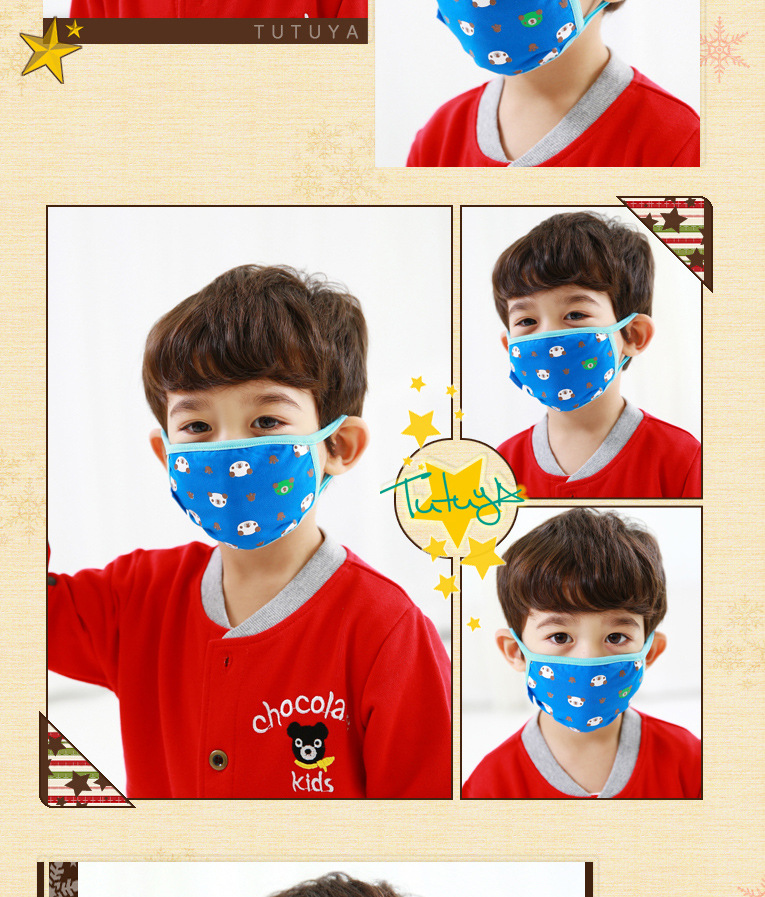face_mask: (162, 351, 321, 548), (523, 604, 642, 731), (504, 279, 616, 410)
